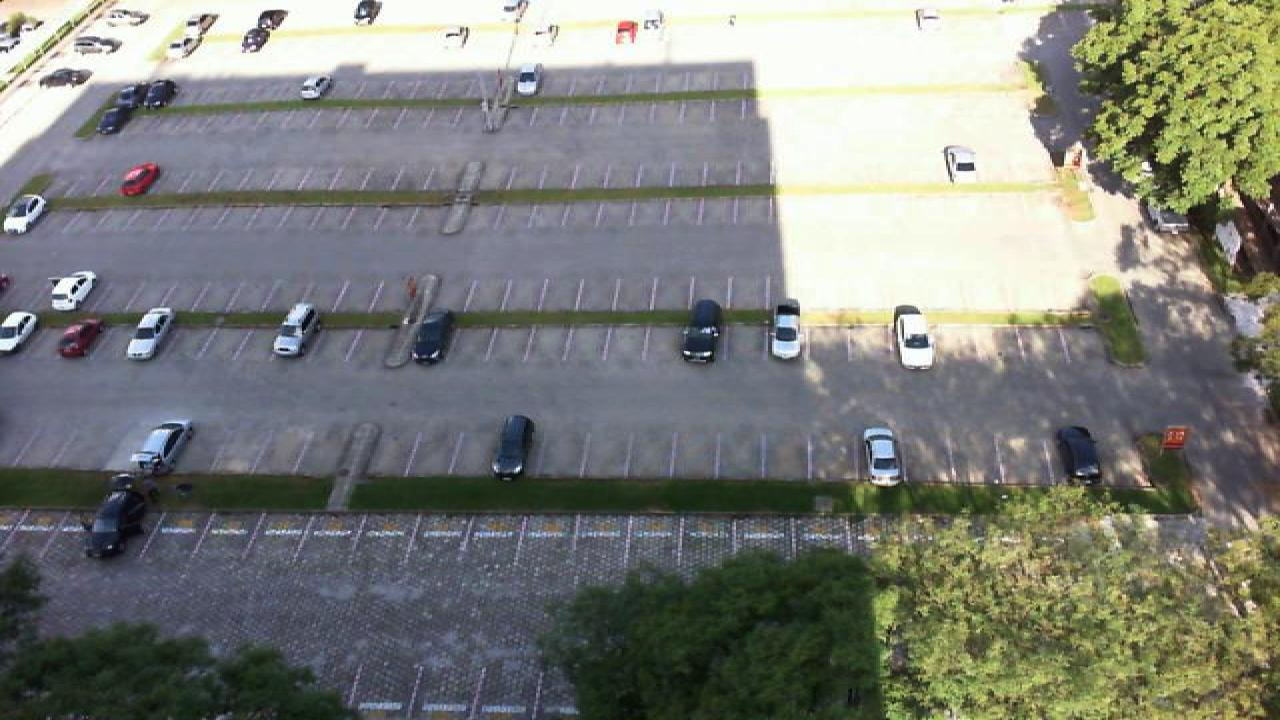Car: (86, 475, 154, 559), (130, 422, 192, 476), (1054, 425, 1106, 486), (490, 413, 536, 480), (892, 304, 938, 371), (124, 307, 178, 361), (270, 303, 322, 359), (680, 300, 724, 364), (862, 426, 908, 487), (408, 312, 454, 366), (768, 297, 804, 360), (0, 192, 48, 236), (48, 270, 98, 310), (0, 310, 40, 356), (56, 320, 102, 358), (944, 143, 982, 184), (120, 162, 160, 198), (96, 100, 136, 136), (98, 10, 150, 33), (38, 66, 90, 88), (116, 79, 150, 110), (514, 62, 544, 97), (72, 34, 122, 55), (298, 73, 334, 101), (166, 30, 202, 58), (508, 24, 544, 52), (144, 79, 178, 108), (252, 10, 288, 34), (240, 28, 272, 53), (914, 7, 946, 32), (186, 11, 218, 35), (438, 25, 470, 48), (614, 19, 640, 46), (354, 0, 382, 25), (640, 8, 666, 31)
